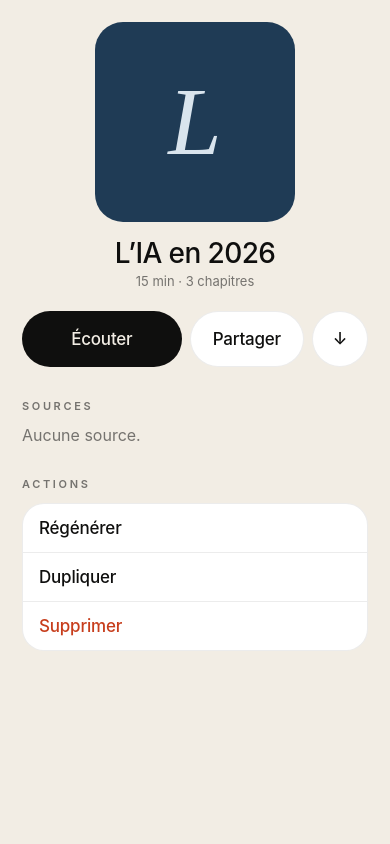
DetailScreen › opens the ShareSheet when Partager is tapped
Click the element with test id "detail-share-button" at (247, 339), box left=190, top=311, right=304, bottom=367
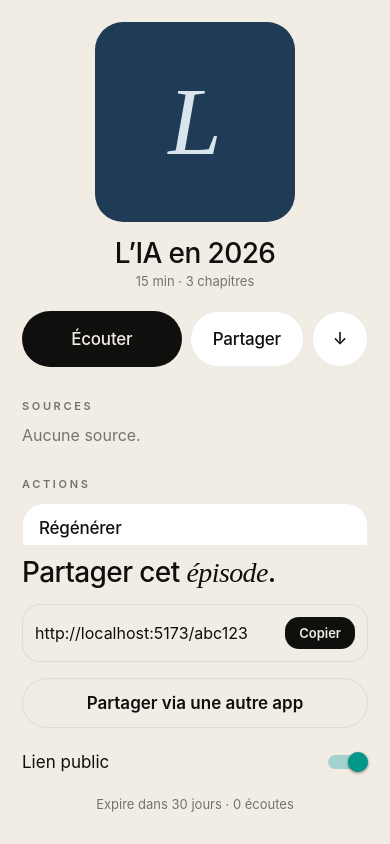
Expected: the element with test id "bottom-sheet-modal" is shown, left=0, top=545, right=389, bottom=843
